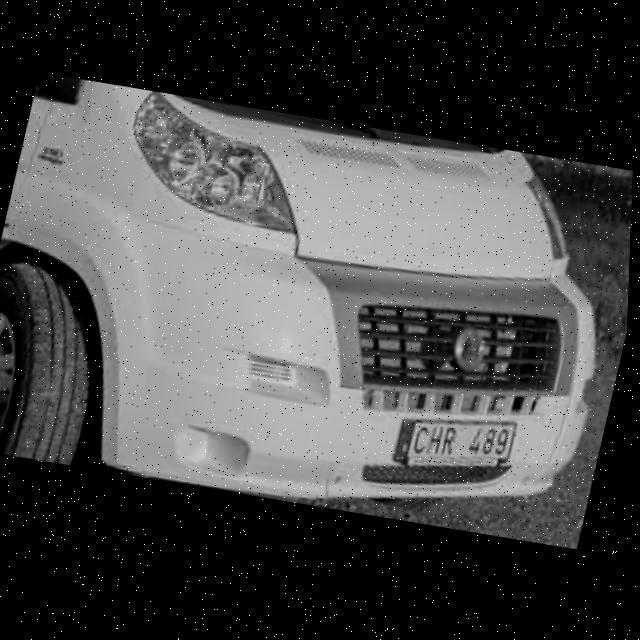license-plates: (394, 423, 511, 464)
